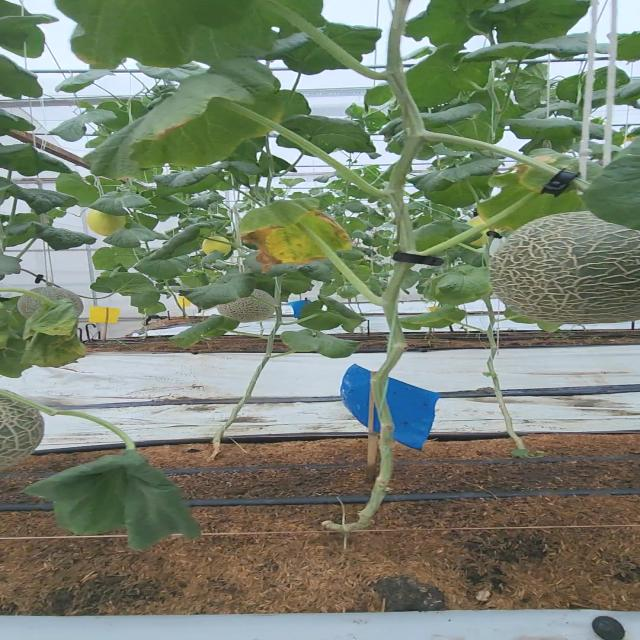Front-melon: (490, 216, 640, 325)
Rear-melon: (84, 207, 120, 236)
